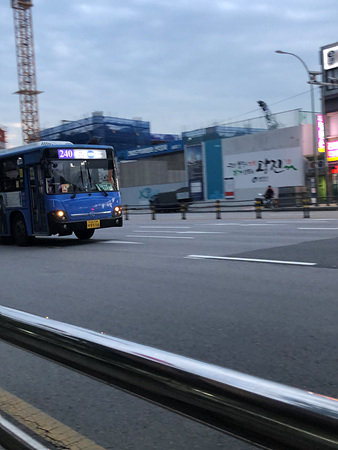bnum: (58, 148, 74, 158)
